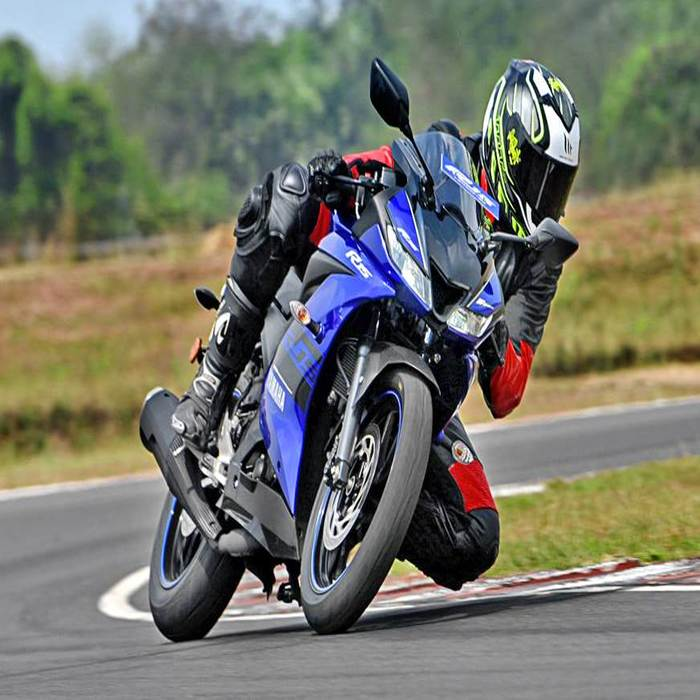h: (476, 58, 582, 274)
